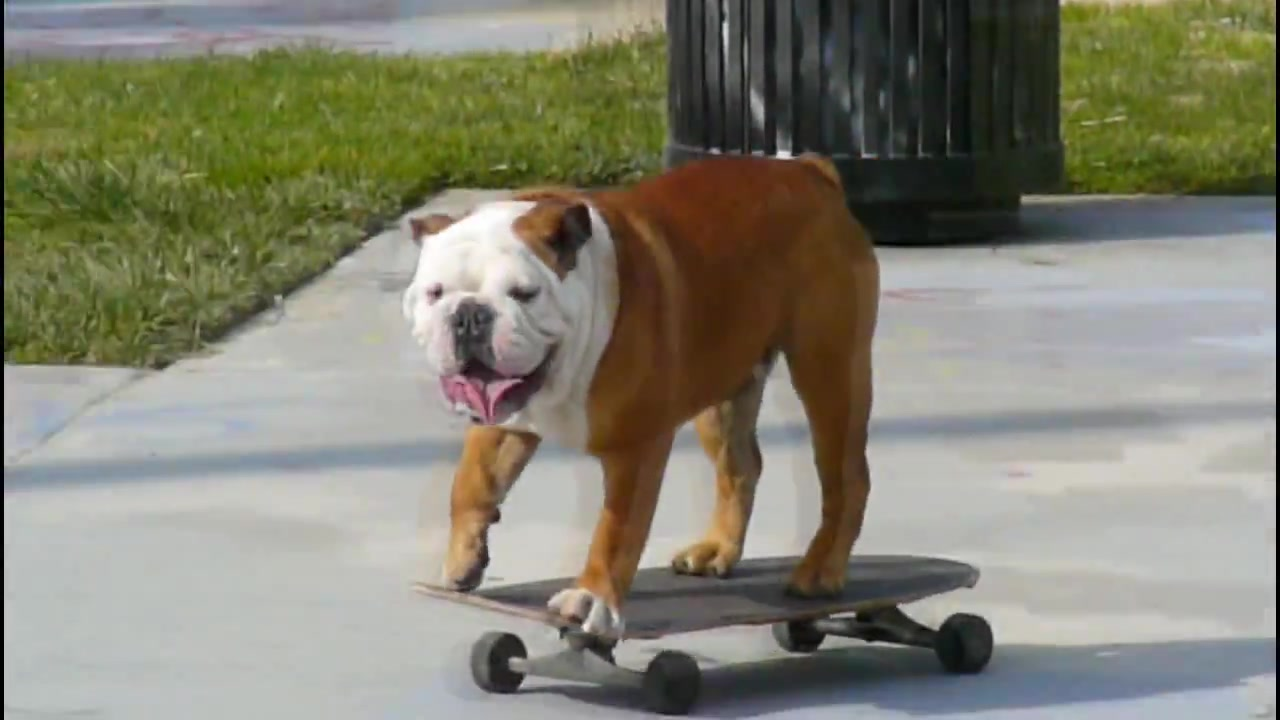dog: (404, 146, 883, 650)
